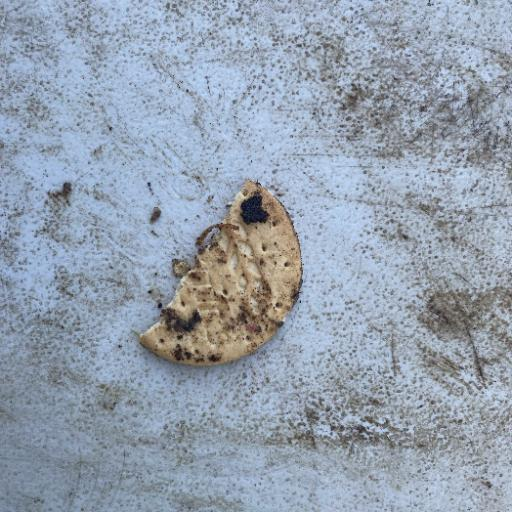Waste: (136, 178, 304, 367)
